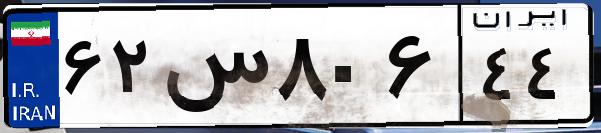0: (330, 28, 385, 110)
2: (110, 28, 158, 98)
4: (475, 38, 525, 113), (525, 38, 570, 115)
6: (385, 28, 445, 110), (57, 26, 110, 100)
8: (270, 28, 330, 110)
س: (158, 20, 270, 120)
